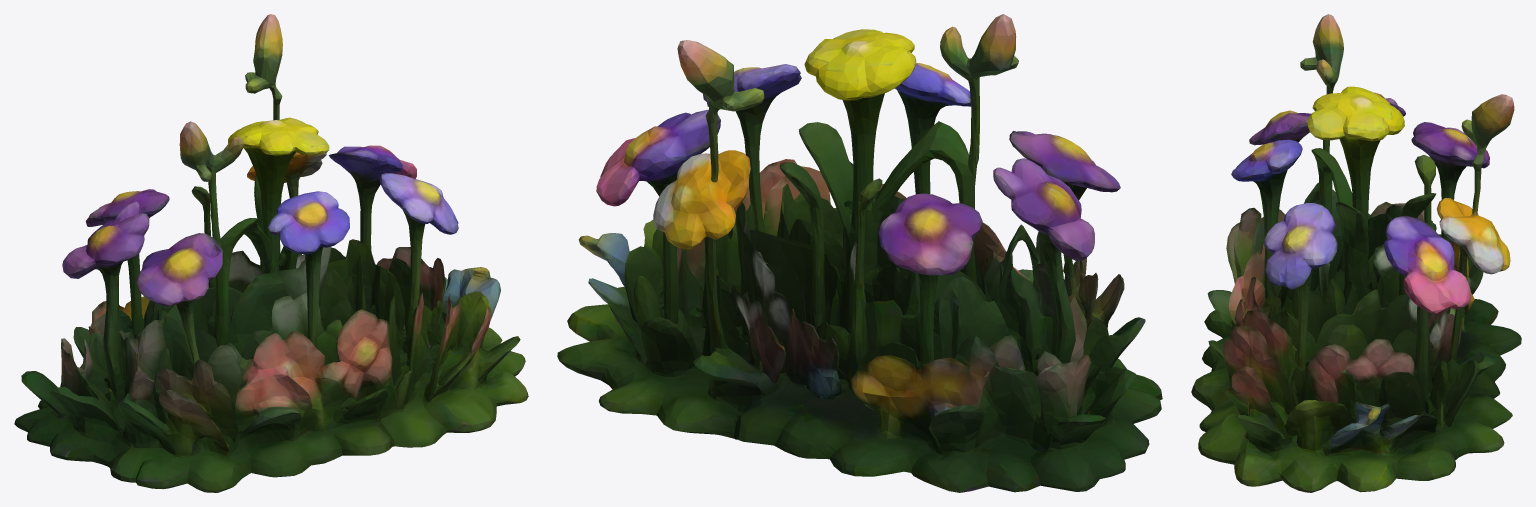
3 renders of one model, left to right at view 1: azimuth 30°, elevation 25°; view 2: azimuth 150°, elevation 25°; view 3: azimuth 270°, elevation 25°, orthographic. The views are drawn at different scales.
Visible parts, largest first — view 1: world; view 2: world; view 3: world.
Part boxes in pixels (left/top/right/bottom): world: left=14, top=14, right=528, bottom=492; world: left=557, top=14, right=1162, bottom=492; world: left=1191, top=14, right=1521, bottom=492.
Size of the model in its own units: 0.9951 by 0.6715 by 0.6124.
Materials: 1 (1 with a texture image).
